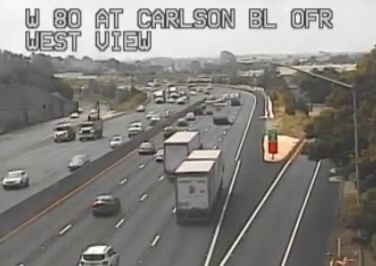car: (81, 245, 118, 266), (92, 196, 119, 214), (138, 142, 154, 154)
truck: (173, 149, 224, 220), (163, 131, 201, 178)
